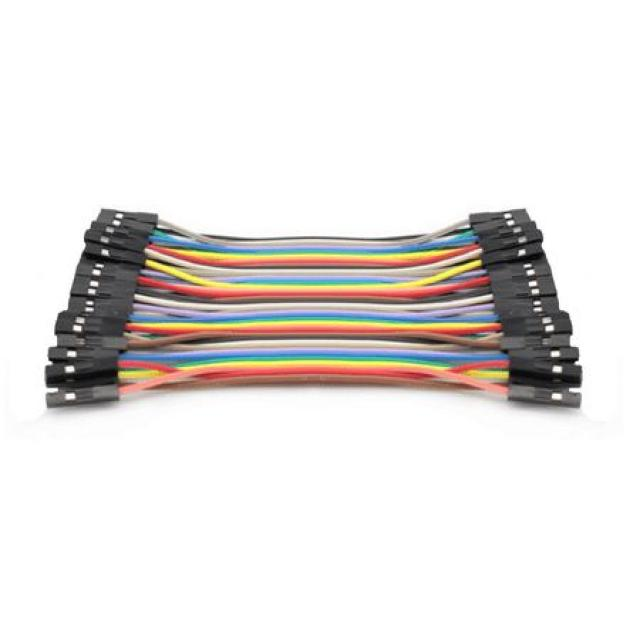Jumper Wires: (18, 185, 602, 420)
